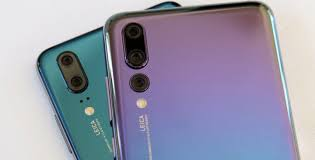huawei: (100, 1, 301, 160)
